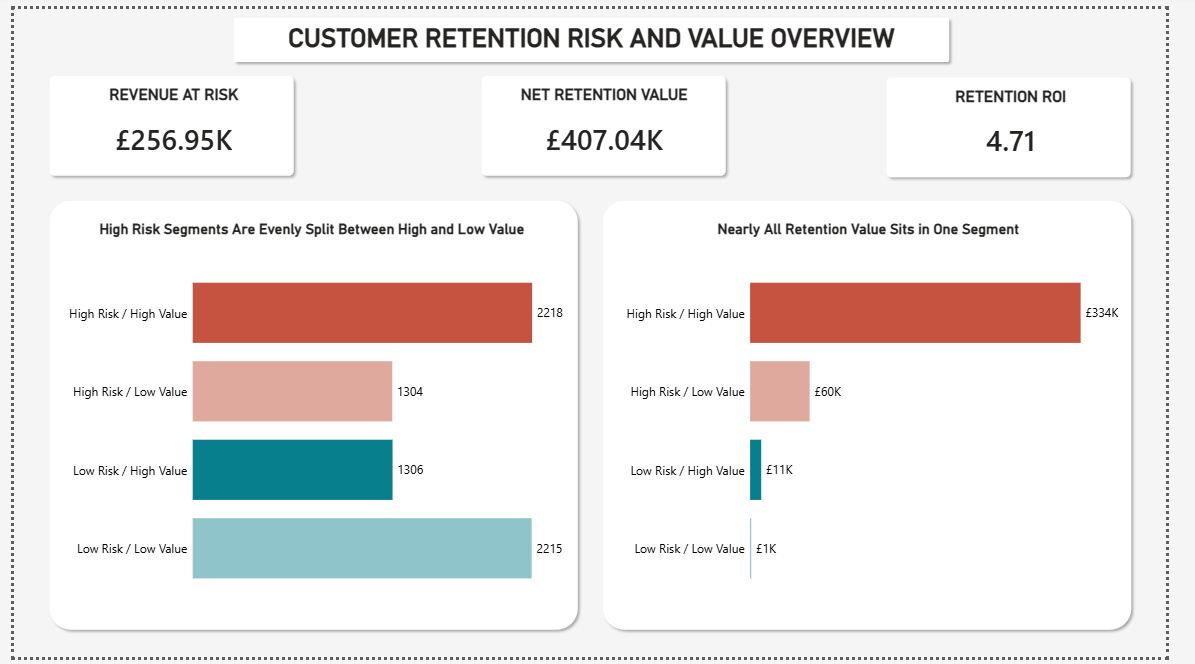

This screenshot's page, from the dashboard's own definition file:
{"tool":"powerbi","page":{"name":"Executive Summary","canvas":[1920,1080],"ordinal":0},"visuals":[{"type":"cardVisual","title":"REVENUE AT RISK","fields":{"Data":["churn_by_contract.Revenue at Risk"]},"box":[92.3,116.6,357,184.6],"z":0},{"type":"cardVisual","title":"RETENTION ROI","fields":{"Data":["churn_by_contract.Retention ROI"]},"box":[1195,116.6,483.3,184.6],"z":1000},{"type":"cardVisual","title":"NET RETENTION VALUE","fields":{"Data":["customer_intervention_recommendations.Total Net Expected Value"]},"box":[582.9,116.6,510.1,184.6],"z":3000},{"type":"clusteredBarChart","title":"High Risk Segments Are Evenly Split Between High and Low Value","fields":{"Category":["customer_intervention_recommendations.segment"],"Y":["customer_intervention_recommendations.Total Customers"]},"box":[0,327.9,949.7,641.2],"z":4000},{"type":"clusteredBarChart","title":"Nearly All Retention Value Sits in One Segment","fields":{"Category":["customer_intervention_recommendations.segment"],"Y":["customer_intervention_recommendations.Total Net Expected Value"]},"box":[981.3,327.9,889,619.4],"z":5000},{"type":"textbox","box":[0,26.7,1899.4,89.9],"z":6000}]}

Visuals, with their boxes in screenshot pixels (x1, y1, x2, y2), scaled from the page's 1920x1080 canvas onto the 1195x664 screenshot:
"REVENUE AT RISK" cardVisual: x1=57, y1=72, x2=280, y2=185
"RETENTION ROI" cardVisual: x1=744, y1=72, x2=1045, y2=185
"NET RETENTION VALUE" cardVisual: x1=363, y1=72, x2=680, y2=185
"High Risk Segments Are Evenly Split Between High and Low Value" clusteredBarChart: x1=0, y1=202, x2=591, y2=596
"Nearly All Retention Value Sits in One Segment" clusteredBarChart: x1=611, y1=202, x2=1164, y2=582
textbox: x1=0, y1=16, x2=1182, y2=72
